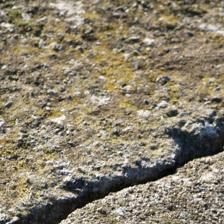Crack: (10, 66, 210, 158)
